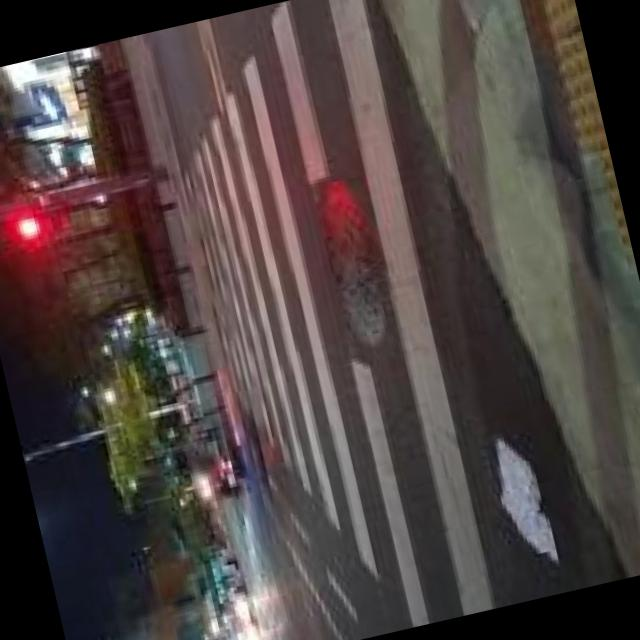zebra: (165, 0, 463, 625)
